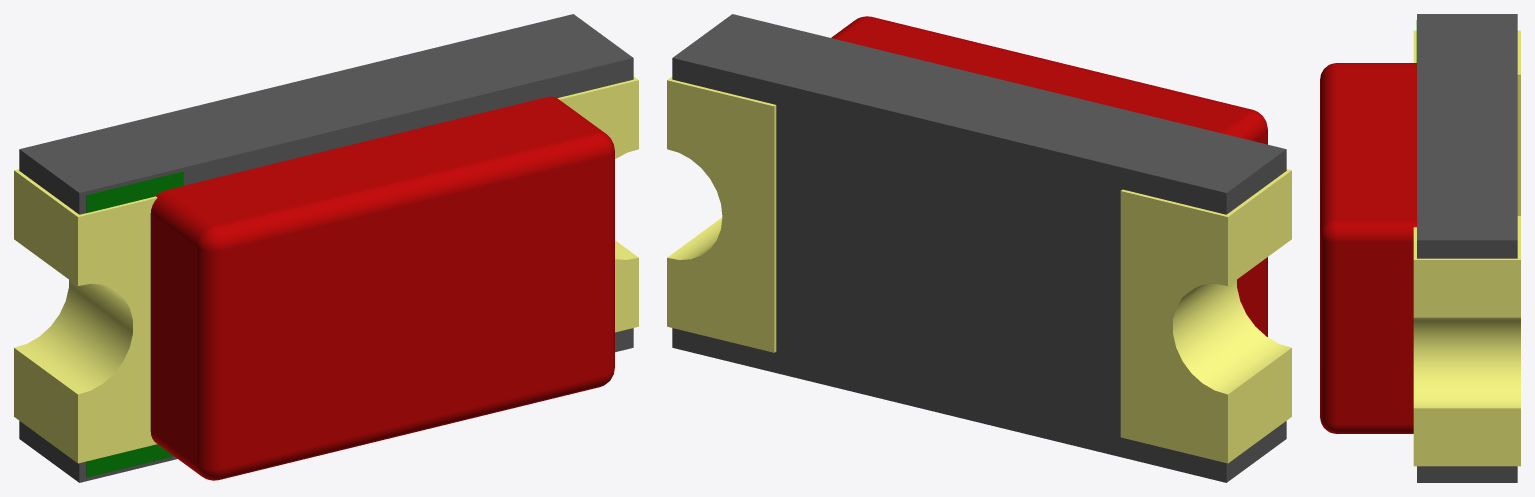
File: LED_0603_R-09b6f04da8f5.glb
3 views of the same model, side by side, from view 1: azimuth 30°, elevation 25°; view 2: azimuth 150°, elevation 25°; view 3: azimuth 270°, elevation 25° (orthographic). The views are drawn at different scales.
Visible parts, largest first — view 1: material2, material1, material0, material3; view 2: material1, material0, material2; view 3: material2, material1, material0.
Part boxes in pixels (x1,y1,x2,y2): material2: (150,96,614,480); material1: (19,14,633,482); material0: (14,77,638,463); material3: (86,171,183,477); material1: (672,14,1286,482); material0: (667,77,1291,463); material2: (831,16,1267,336); material2: (1320,63,1416,433); material1: (1417,14,1517,482); material0: (1413,30,1520,466).
Bounding box in the file's own units: 1.62 × 0.8 × 0.6.
